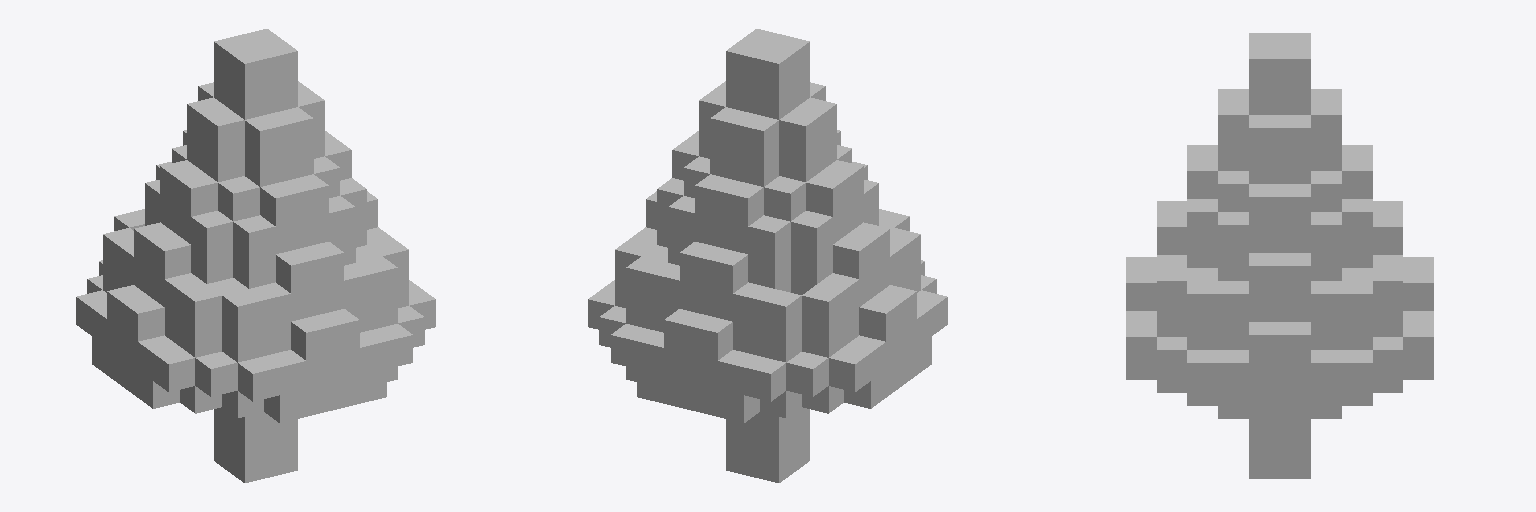
File: jodla.obj
3 renders of one model, left to right at view 1: azimuth 30°, elevation 25°; view 2: azimuth 150°, elevation 25°; view 3: azimuth 270°, elevation 25°, orthographic.
Parts seen in each view (by area): view 1: object 1; view 2: object 1; view 3: object 1.
Boxes of the visible parts, <box> form: object 1: <box>76,29,435,482</box>; object 1: <box>588,29,947,482</box>; object 1: <box>1126,33,1433,478</box>.
Size of the model in its own units: 1 by 1.5 by 1.